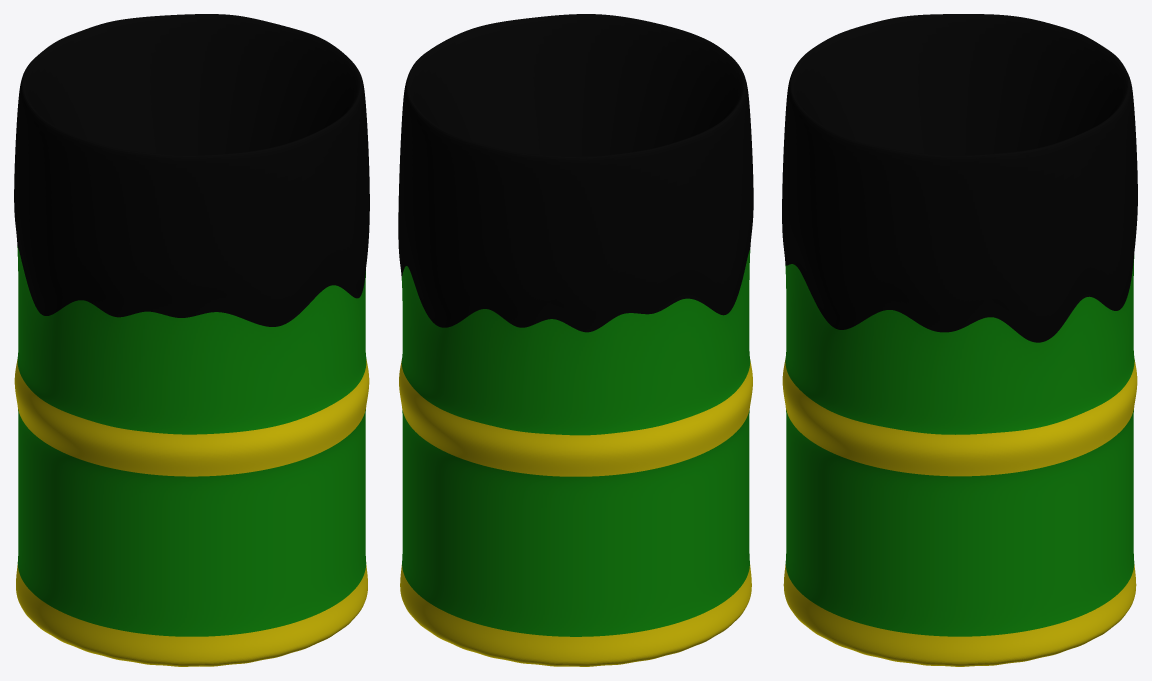
File: bote de basura.fbx
3 renders of one model, left to right at view 1: azimuth 30°, elevation 25°; view 2: azimuth 150°, elevation 25°; view 3: azimuth 270°, elevation 25°, orthographic.
Visible parts, largest first — view 1: Cylinder.001; view 2: Cylinder.001; view 3: Cylinder.001.
Part boxes in pixels (x1=…): Cylinder.001: x1=14, y1=14, x2=369, y2=666; Cylinder.001: x1=398, y1=14, x2=753, y2=666; Cylinder.001: x1=782, y1=14, x2=1137, y2=666.
Size of the model in its own units: 204 by 329 by 204.
